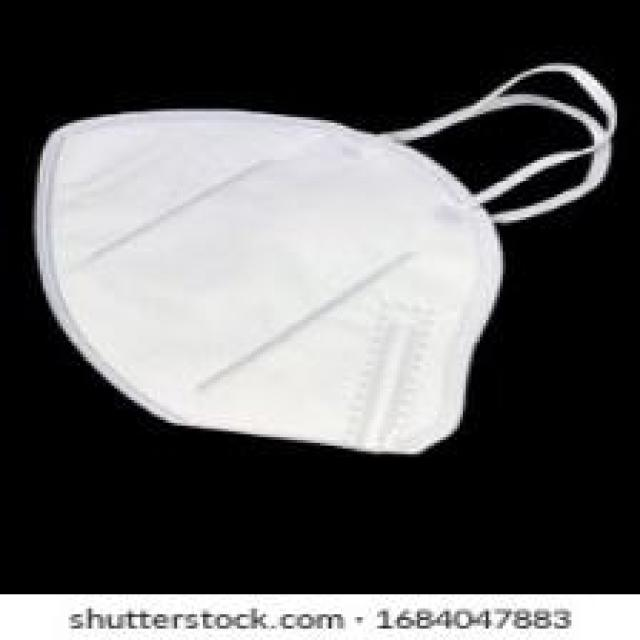Mask: (45, 70, 614, 462)
